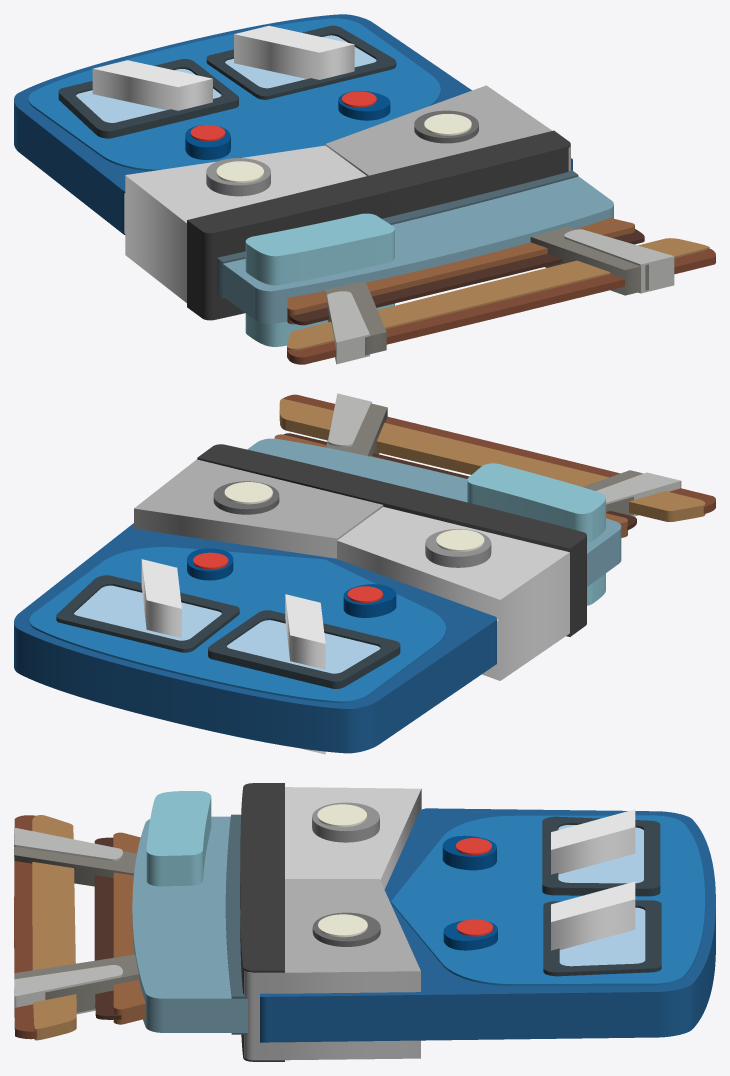
The model's file is emoji_u1f686.glb.
The picture shows the model from 3 angles, top to bottom: view 1: azimuth 30°, elevation 25°; view 2: azimuth 150°, elevation 25°; view 3: azimuth 270°, elevation 25°; orthographic projection. The views are drawn at different scales.
Visible parts, largest first — view 1: emoji_u1f686; view 2: emoji_u1f686; view 3: emoji_u1f686.
Part boxes in pixels (x1,y1,x2,y2): emoji_u1f686: (14, 14, 715, 364); emoji_u1f686: (14, 393, 715, 754); emoji_u1f686: (14, 783, 715, 1061).
Bounding box in the file's own units: 0.0244 × 0.006 × 0.0335.
